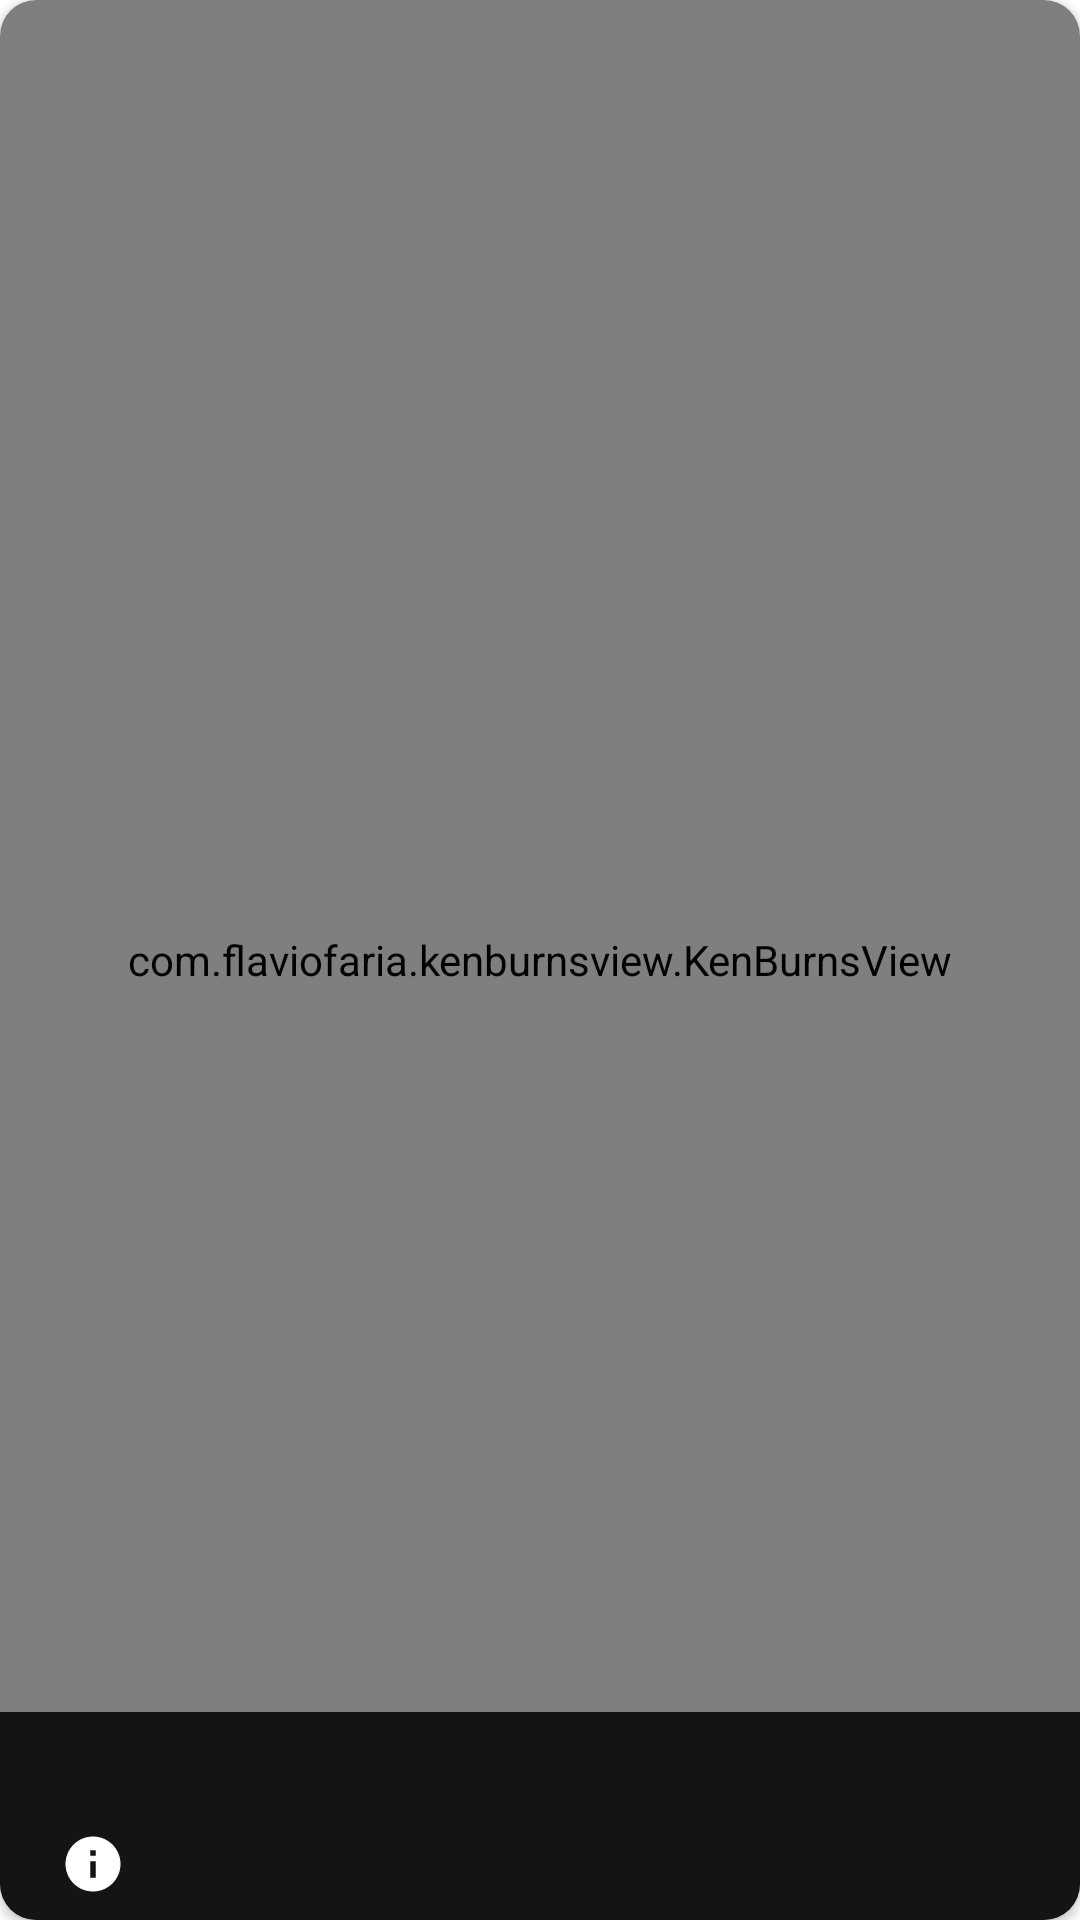

Icons on this 1080px×1920px Android screen, each with the point to tap as (x=x, y=y):
info: (x=93, y=1864)
